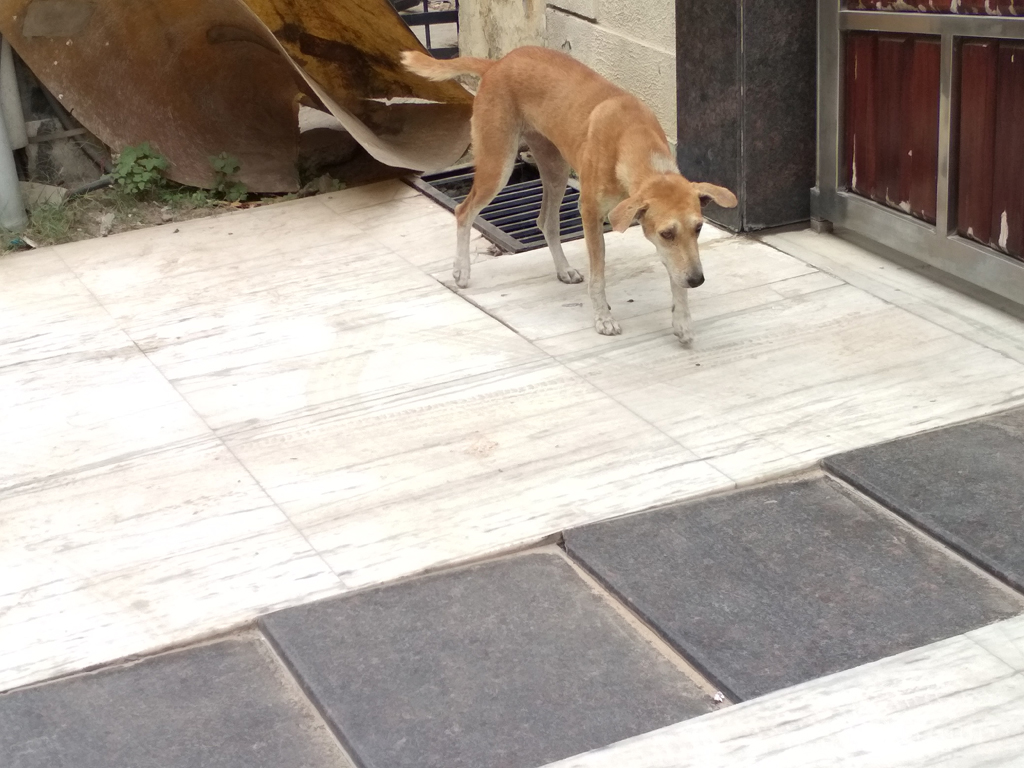dog: (403, 45, 728, 349)
